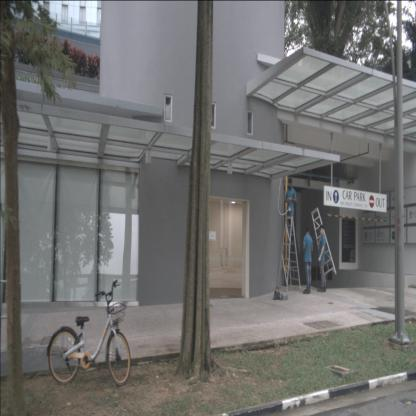human-pedestrian-adult: (285, 178, 297, 243), (303, 225, 313, 295), (317, 225, 327, 292)
vehicle-bicycle: (46, 279, 130, 386)
